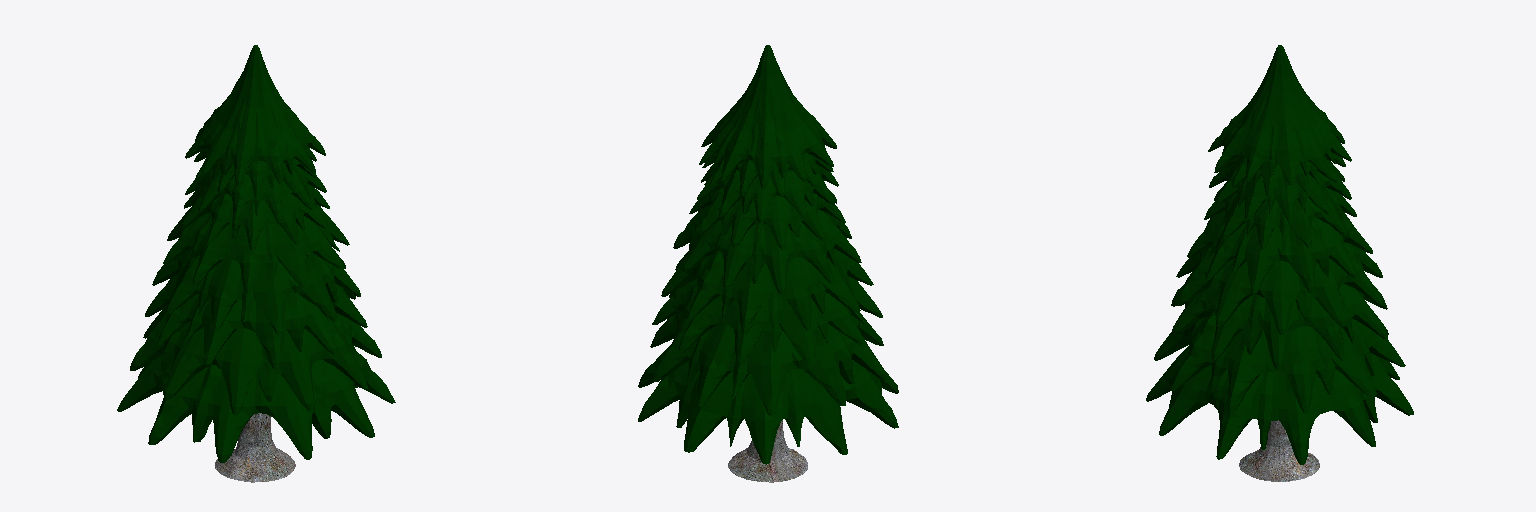
The picture shows the model from 3 angles: view 1: azimuth 30°, elevation 25°; view 2: azimuth 150°, elevation 25°; view 3: azimuth 270°, elevation 25°; orthographic projection.
Visible parts, largest first — view 1: pCone8, pCone9, pCone1, pCone6, pCone5, pCone7, pCone4, pCylinder1, pCone3, pCone2; view 2: pCone8, pCone9, pCone1, pCone6, pCone7, pCone5, pCone4, pCone3, pCylinder1, pCone2; view 3: pCone8, pCone9, pCone1, pCone6, pCone5, pCone7, pCone4, pCone3, pCylinder1, pCone2.
Part boxes in pixels (x1,y1,x2,y2): pCone8: (117, 346, 395, 462); pCone9: (130, 308, 381, 414); pCone1: (185, 45, 325, 185); pCone6: (152, 249, 360, 334); pCone5: (163, 204, 349, 293); pCone7: (145, 275, 367, 369); pCone4: (181, 184, 329, 250); pCylinder1: (215, 413, 295, 482); pCone3: (185, 166, 326, 221); pCone2: (194, 146, 316, 197); pCone8: (638, 345, 898, 464); pCone9: (650, 310, 886, 416); pCone1: (699, 45, 836, 186); pCone6: (661, 249, 873, 334); pCone7: (652, 276, 882, 366); pCone5: (673, 205, 861, 294); pCone4: (689, 188, 845, 249); pCone3: (697, 165, 838, 223); pCylinder1: (728, 420, 807, 482); pCone2: (702, 153, 833, 196); pCone8: (1146, 345, 1413, 464); pCone9: (1154, 306, 1405, 413); pCone1: (1208, 45, 1351, 185); pCone6: (1176, 242, 1383, 334); pCone5: (1187, 210, 1372, 293); pCone7: (1171, 271, 1387, 369); pCone4: (1204, 182, 1356, 249); pCone3: (1209, 160, 1351, 222); pCylinder1: (1239, 420, 1319, 481); pCone2: (1214, 152, 1345, 196).
Bounding box in the file's own units: 6.11 × 10.39 × 5.99.
2 materials, 1 textured.